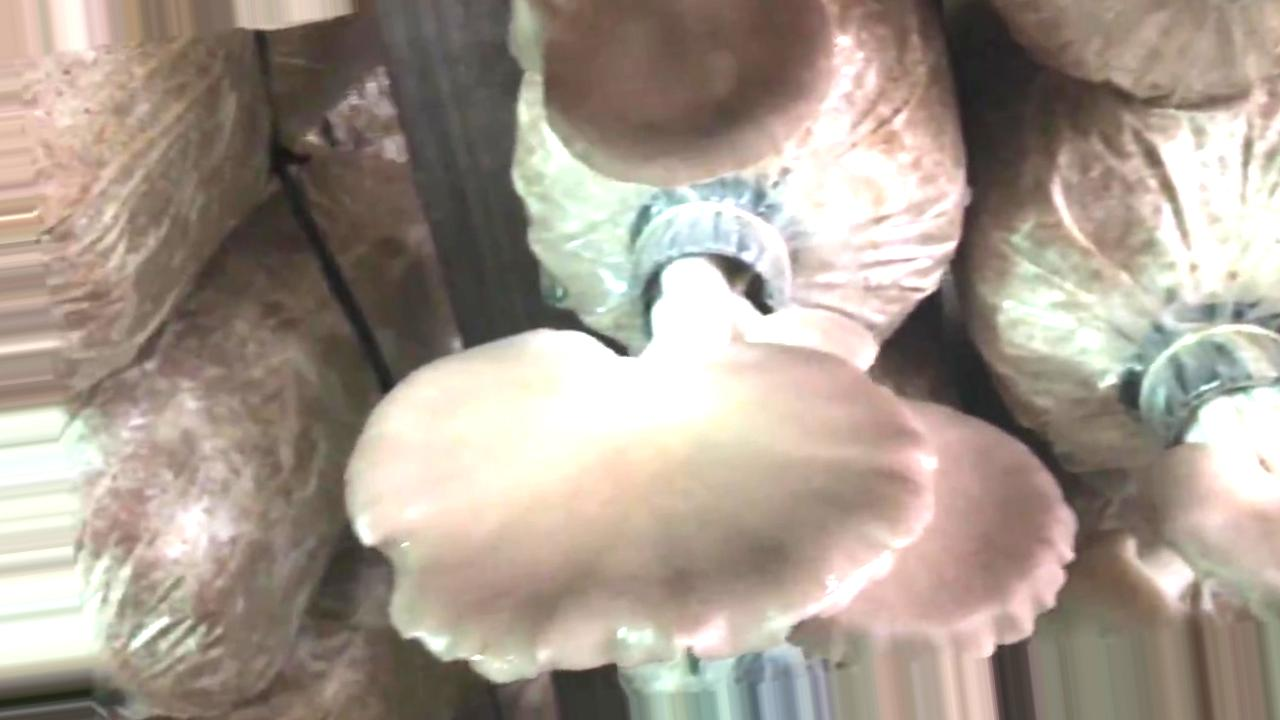nam: (342, 199, 941, 684), (788, 391, 1078, 673), (1068, 316, 1280, 613), (538, 1, 839, 189)
